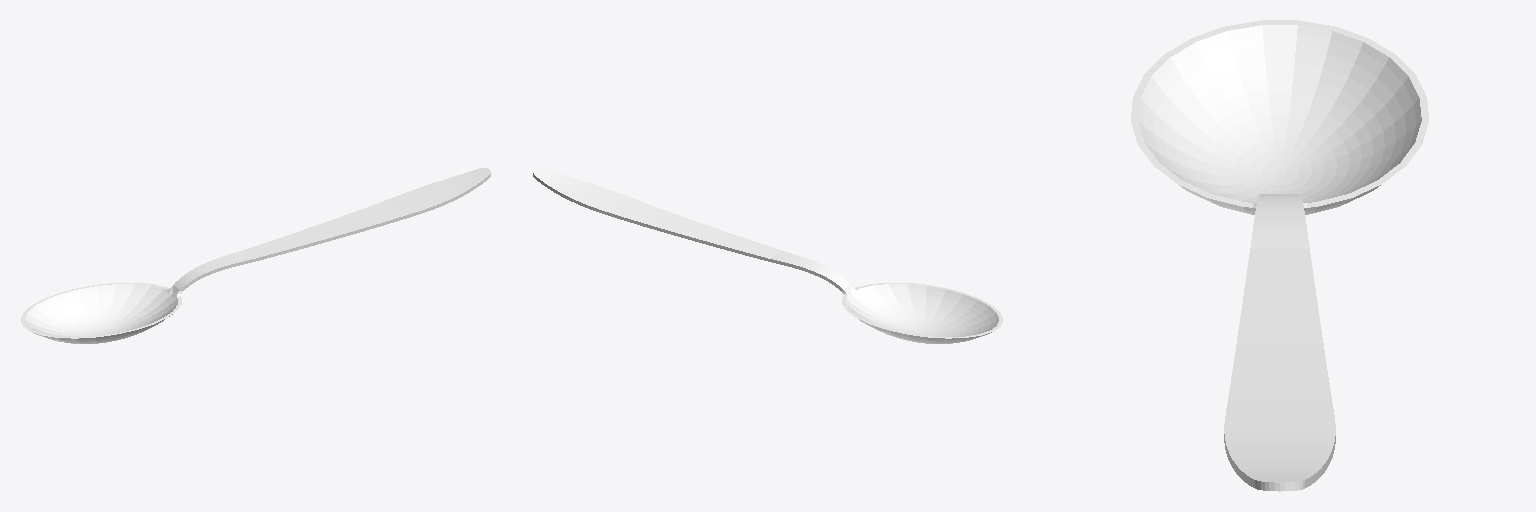
The robot description file, URDF, robot "Threshold_Porcelain_Coffee_Mug_All_Over_Bead_White":
<?xml version='1.0' ?>
<robot name="Threshold_Porcelain_Coffee_Mug_All_Over_Bead_White">
    <link name="base_link">
        <visual>
            <origin rpy="0 0 0" xyz="0 0 0"/>
            <geometry>
                <mesh filename="meshes/model.obj" scale="1.0 1.0 1.0"/>
            </geometry>
            <material name="texture">
                <color rgba="1.0 1.0 1.0 1.0" />
            </material>
        </visual>
        <collision>
            <origin rpy="0 0 0" xyz="0 0 0"/>
            <geometry>
                <mesh filename="meshes/model.obj" scale="1.0 1.0 1.0"/>
            </geometry>
        </collision>
        <inertial>
            <!-- <mass value="1.0"/> -->
            <inertia ixx="1.0" ixy="0.0" ixz="0.0" iyy="1.0" iyz="0.0" izz="1.0" />
        </inertial>
    </link>
</robot>

--- Facts derived from the render (not from the file) ---
3 views of the same robot in one strip: view 1: azimuth 30°, elevation 25°; view 2: azimuth 150°, elevation 25°; view 3: azimuth 270°, elevation 25° (orthographic).
Robot: Threshold_Porcelain_Coffee_Mug_All_Over_Bead_White — 1 links, 0 joints (none); root link base_link; default pose: all joints at 0.
Visible links, largest first — view 1: base_link; view 2: base_link; view 3: base_link.
Link boxes in pixels (x1,y1,x2,y2): base_link: (21, 168, 490, 343); base_link: (533, 168, 1002, 343); base_link: (1131, 20, 1428, 491).
Bounding box of the posed robot: 5.35 × 1.16 × 0.7883 m (x, y, z).
Meshes: 1 distinct files referenced, 1 mesh visuals loaded (1 OBJ).
